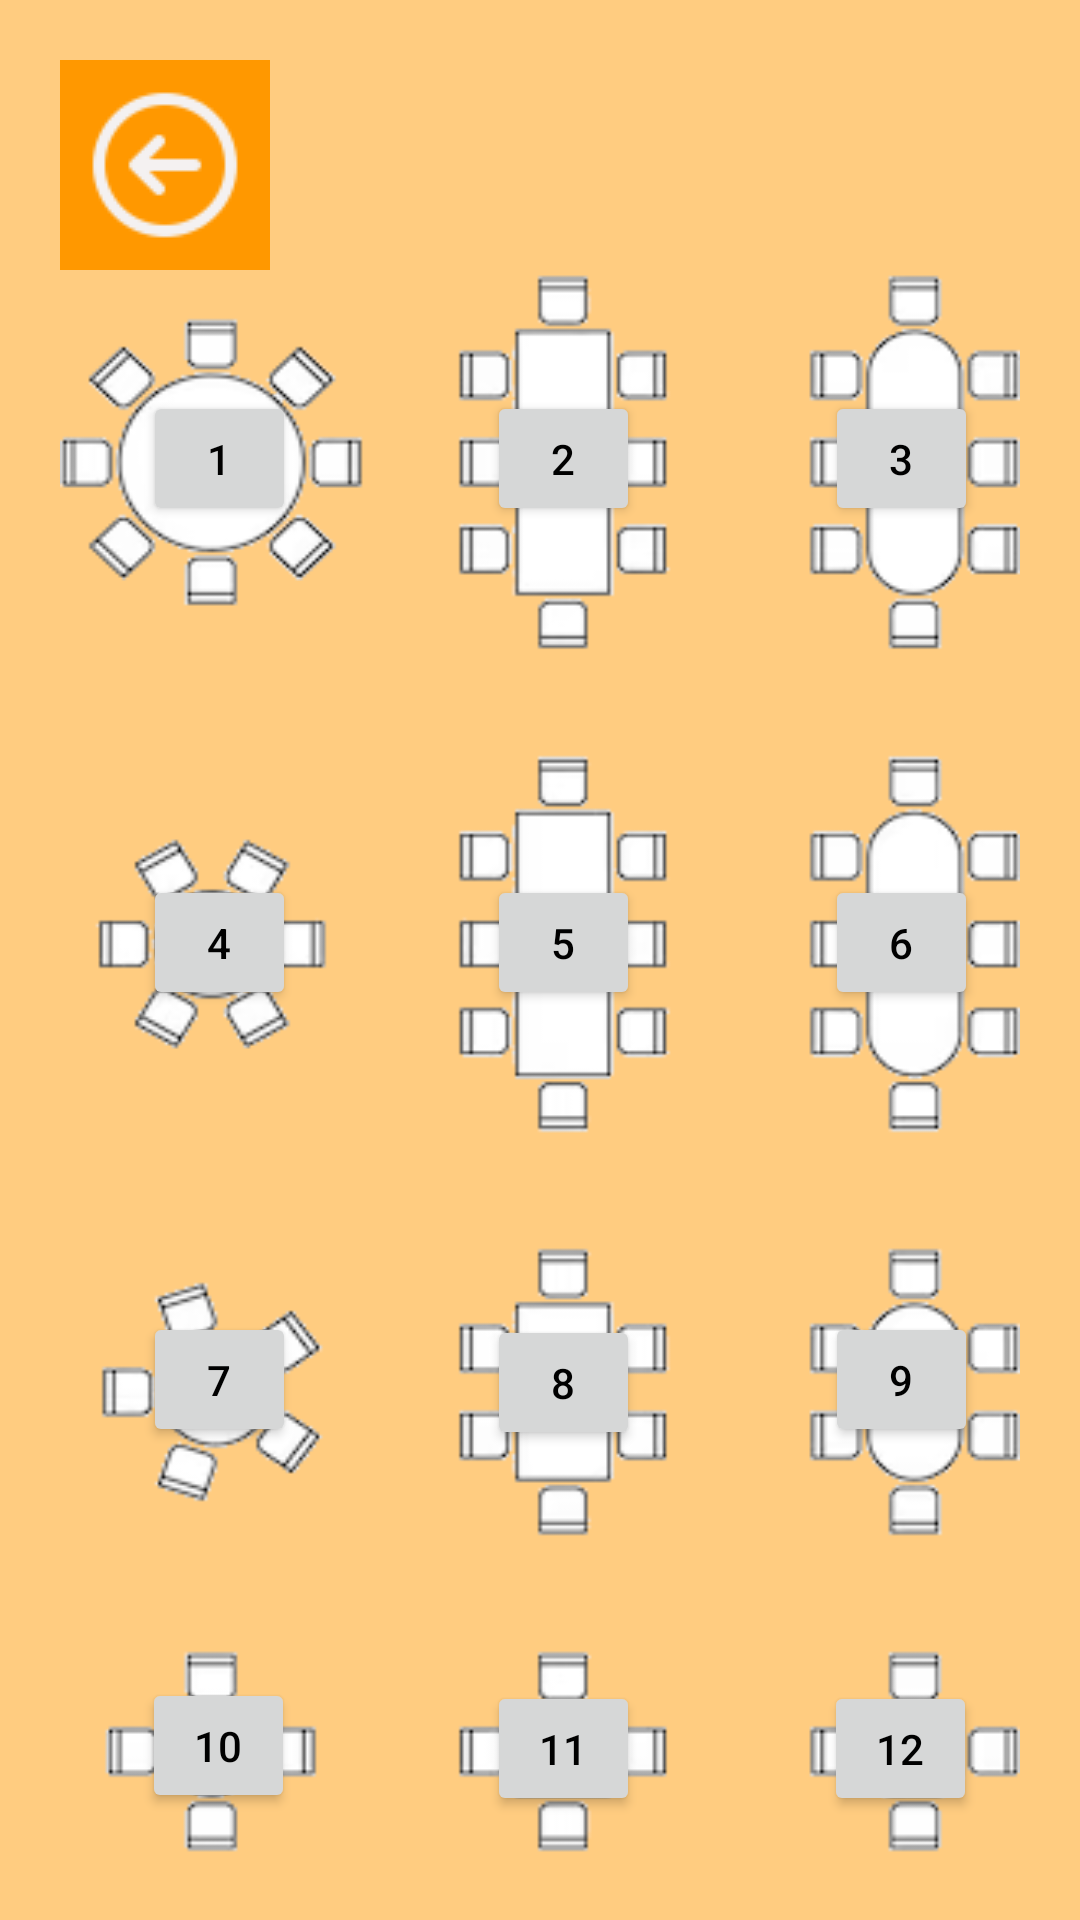

Icons on this 1080 × 1920 Android screen, each with the point to tap as (x=x, y=y):
back: (x=165, y=165)
